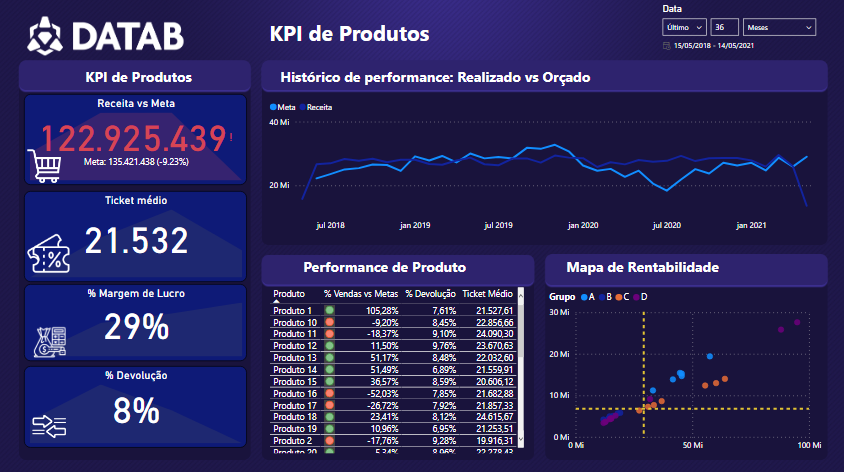

This screenshot's page, from the dashboard's own definition file:
{"tool":"powerbi","page":{"name":"Página 1","canvas":[1280,720],"ordinal":0},"visuals":[{"type":"lineChart","fields":{"Category":["dCalendario.Data.Variation.Hierarquia de datas.Ano","dCalendario.Data.Variation.Hierarquia de datas.Trimestre","dCalendario.Data.Variation.Hierarquia de datas.Mês","dCalendario.Data.Variation.Hierarquia de datas.Dia"],"Y":["Sum(Meta.Meta)","Sum(Vendas.Total)"]},"box":[403.4,142.6,847.8,216.9],"z":0},{"type":"kpi","title":"Receita vs Meta","fields":{"Indicator":["Sum(Vendas.Total)"],"TrendLine":["dCalendario.Data.Variation.Hierarquia de datas.Ano"],"Goal":["Sum(Meta.Meta)"]},"box":[36.4,142.6,338.2,138],"z":1000},{"type":"image","box":[36.4,0,247.2,109.2],"z":2000},{"type":"textbox","box":[403.4,22.7,338.2,63.7],"z":3000},{"type":"textbox","box":[124.4,97.1,250.2,45.5],"z":4000},{"type":"textbox","box":[420.1,97.1,814.4,63.7],"z":5000},{"type":"kpi","title":"Ticket médio","fields":{"Indicator":["Avg(Vendas.Total)"],"TrendLine":["dCalendario.Data.Variation.Hierarquia de datas.Ano"]},"box":[36.4,289.7,338.2,138],"z":6000},{"type":"kpi","title":"% Margem de Lucro","fields":{"TrendLine":["dCalendario.Data.Variation.Hierarquia de datas.Ano"],"Indicator":["Medidas.% Margem"]},"box":[36.4,430.7,338.2,116.8],"z":7000},{"type":"kpi","title":"% Devolução","fields":{"TrendLine":["dCalendario.Data.Variation.Hierarquia de datas.Ano"],"Indicator":["Medidas.% Devolução"]},"box":[36.4,555.1,338.2,124.4],"z":8000},{"type":"tableEx","fields":{"Values":["Produto.Produto","Medidas.% Vendas vs Metas","Medidas.% Devolução","Avg(Vendas.Total)"]},"box":[403.4,430.7,395.8,262.4],"z":9000},{"type":"scatterChart","fields":{"Category":["Produto.Produto"],"X":["Sum(Vendas.Total)"],"Y":["Sum(Vendas.Lucro)"],"Series":["Produto.Grupo"]},"box":[828.1,430.7,423.1,262.4],"z":10000},{"type":"textbox","box":[455,385.2,286.6,45.5],"z":11000},{"type":"slicer","fields":{"Values":["dCalendario.Data"]},"box":[991.8,0,259.3,86.4],"z":11001},{"type":"textbox","box":[853.8,385.2,333.6,45.5],"z":11002},{"type":"image","box":[36.4,221.4,60.7,60.7],"z":11003},{"type":"image","box":[36.4,347.3,74.3,74.3],"z":11004},{"type":"image","box":[39.4,489.9,71.3,57.6],"z":11005},{"type":"image","box":[44,614.2,60.7,65.2],"z":11006}]}

Visuals, with their boxes in screenshot pixels (x1, y1, x2, y2), scaled from the page's 1280x720 canvas onto the 844x472 screenshot:
lineChart - dCalendario.Data.Variation.Hierarquia de datas.Ano x dCalendario.Data.Variation.Hierarquia de datas.Trimestre: bbox=[266, 93, 825, 236]
"Receita vs Meta" kpi: bbox=[24, 93, 247, 184]
image: bbox=[24, 0, 187, 72]
textbox: bbox=[266, 15, 489, 57]
textbox: bbox=[82, 64, 247, 93]
textbox: bbox=[277, 64, 814, 105]
"Ticket médio" kpi: bbox=[24, 190, 247, 280]
"% Margem de Lucro" kpi: bbox=[24, 282, 247, 359]
"% Devolução" kpi: bbox=[24, 364, 247, 445]
tableEx - Produto.Produto x Medidas.% Vendas vs Metas: bbox=[266, 282, 527, 454]
scatterChart - Produto.Produto x Sum(Vendas.Total): bbox=[546, 282, 825, 454]
textbox: bbox=[300, 253, 489, 282]
slicer - dCalendario.Data: bbox=[654, 0, 825, 57]
textbox: bbox=[563, 253, 783, 282]
image: bbox=[24, 145, 64, 185]
image: bbox=[24, 228, 73, 276]
image: bbox=[26, 321, 73, 359]
image: bbox=[29, 403, 69, 445]
